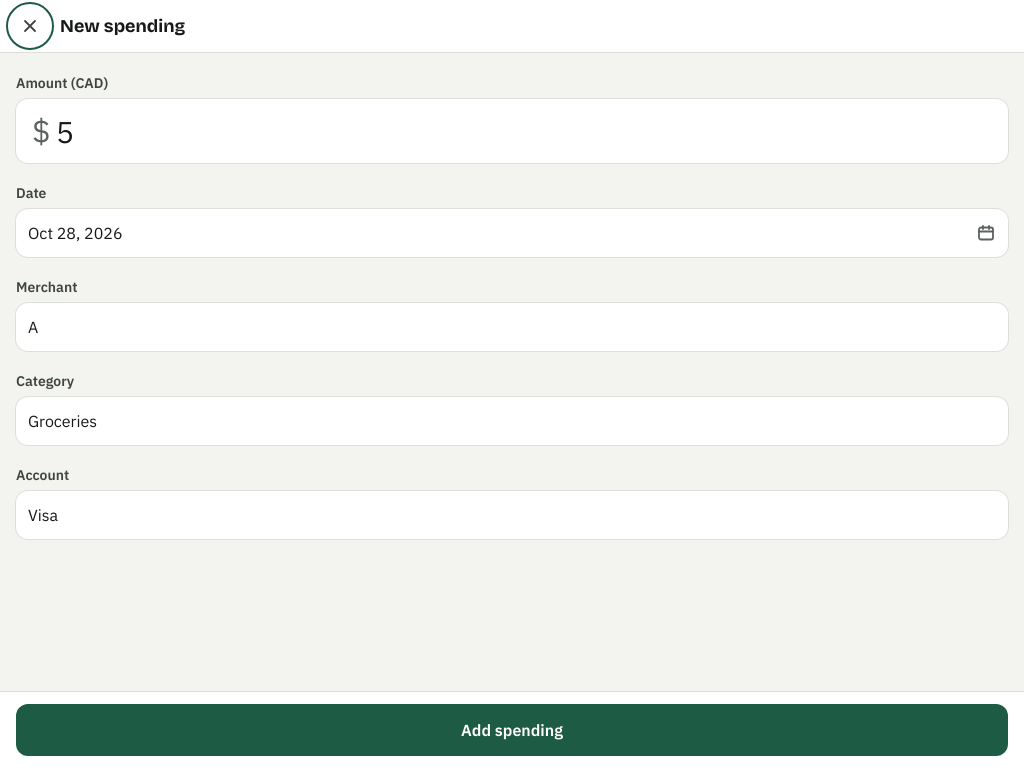
Test case: SpendingForm — add › keeps everything typed and explains a server refusal
Click the button "Add spending" at point(512, 730), box [16, 704, 1008, 756]
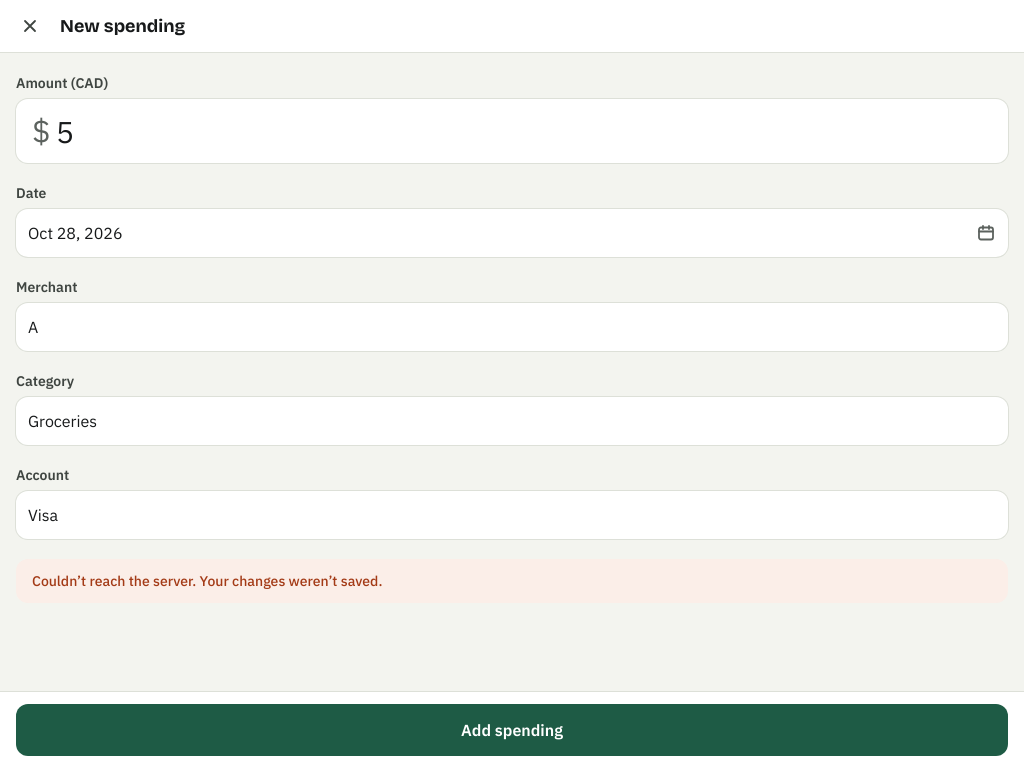
Expected: the field labelled "Amount (CAD)" holds "5", [16, 99, 1008, 163]
Expected: the message shows "Couldn’t reach the server", [32, 572, 382, 590]
